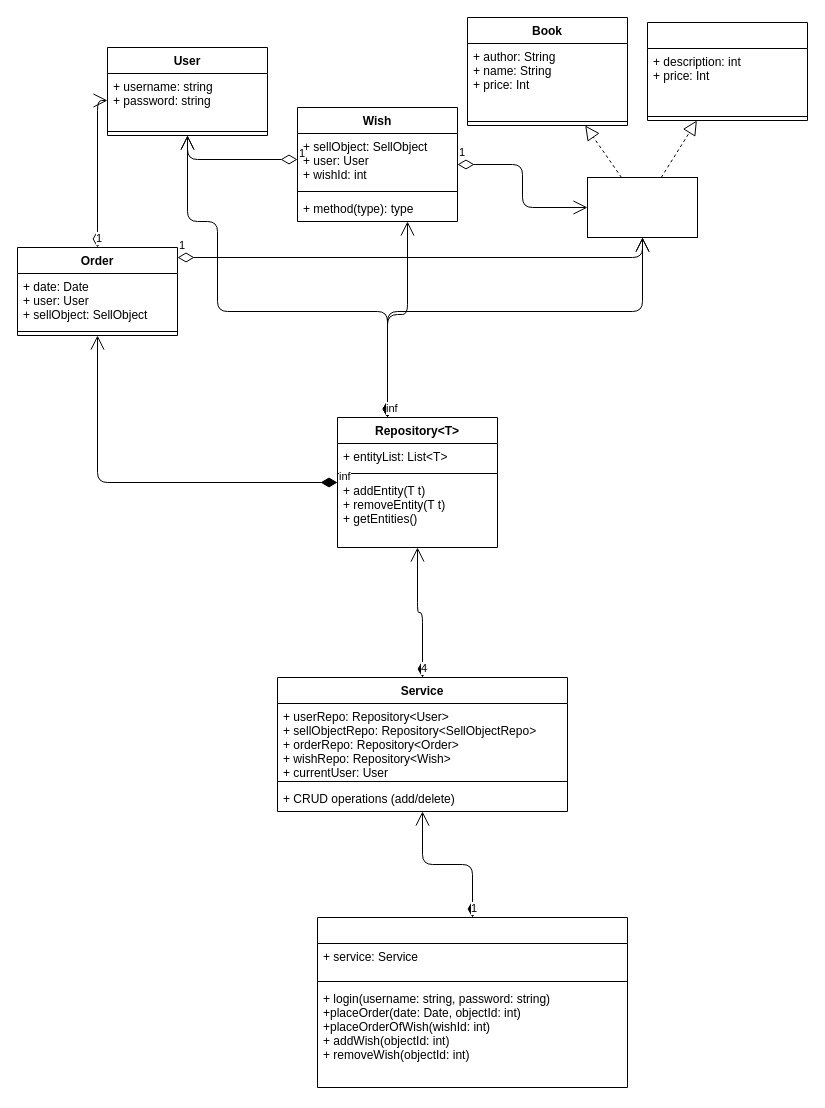
The diagram is 825 pixels wide and 1108 high, and some of its shapes have lost their labels. Each missing label, with the box of its shape:
Painting Material: (646, 22, 808, 120)
UI: (316, 916, 628, 1088)
«interface» SellObject + objectId: int: (586, 176, 698, 238)
